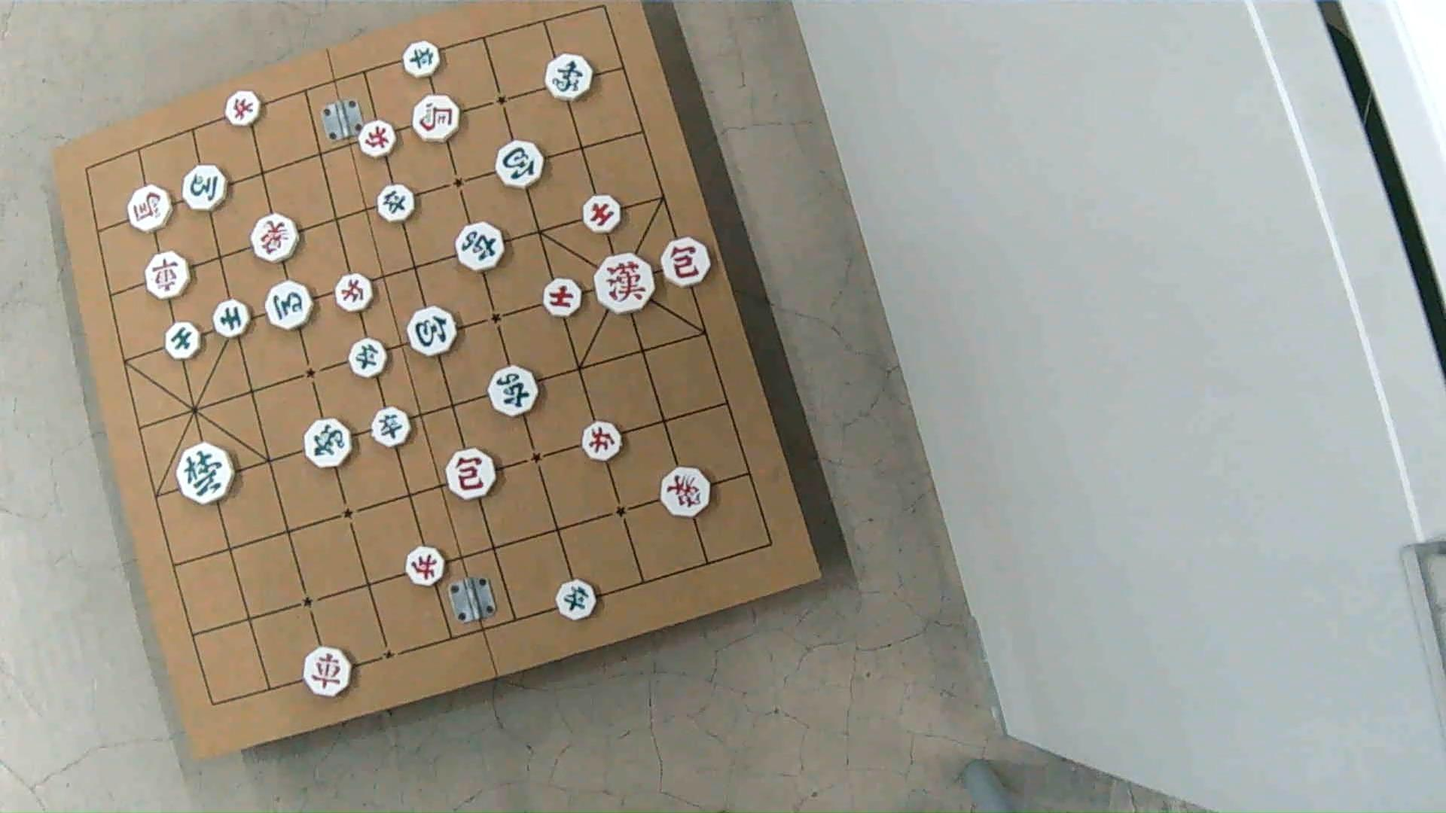cha_green: (489, 366, 538, 416), (456, 223, 505, 271)
cha_red: (304, 649, 352, 698), (145, 251, 191, 298)
jol_green: (555, 580, 595, 620), (370, 408, 410, 448), (347, 339, 385, 377), (377, 184, 416, 221), (404, 41, 441, 78)
jol_red: (581, 422, 623, 461), (404, 546, 443, 585), (337, 273, 375, 312), (358, 120, 396, 157), (226, 90, 262, 126)
ma_green: (265, 280, 312, 329), (182, 166, 227, 212)
ma_red: (411, 93, 460, 142), (130, 186, 173, 233)
po_green: (406, 306, 456, 356), (495, 140, 542, 187)
po_red: (447, 448, 498, 499), (664, 238, 714, 287)
sa_green: (212, 299, 250, 338), (164, 324, 199, 361)
sa_red: (582, 194, 621, 232), (542, 279, 582, 316)
sang_green: (304, 421, 353, 470), (544, 56, 591, 102)
sang_red: (663, 469, 712, 518), (250, 215, 297, 263)
wang_green: (178, 443, 235, 502)
wang_red: (596, 252, 656, 312)
